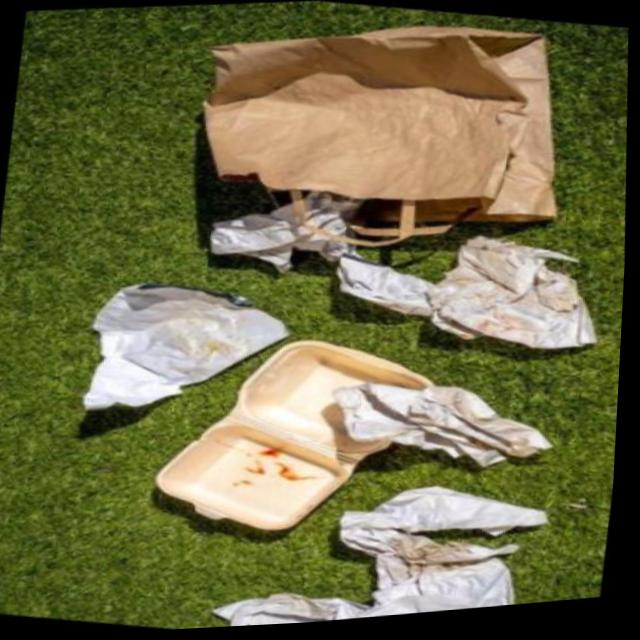food: (188, 169, 626, 384), (51, 246, 318, 448), (306, 349, 581, 491)
paper: (142, 305, 447, 557), (190, 435, 564, 631)
trash: (107, 0, 606, 267)
